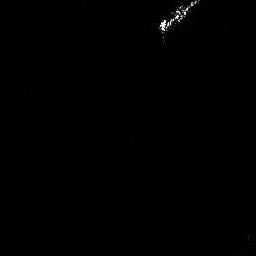ship: (156, 1, 199, 35)
